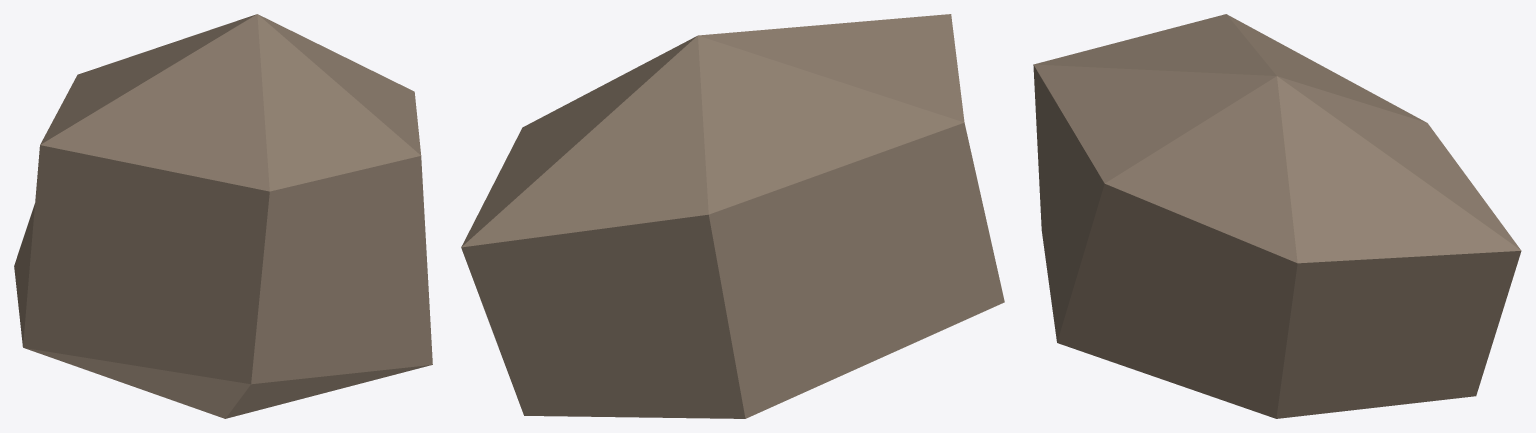
Rendered from roca_pequena.glb.
3 views of the same model, side by side, from view 1: azimuth 30°, elevation 25°; view 2: azimuth 150°, elevation 25°; view 3: azimuth 270°, elevation 25° (orthographic). The views are drawn at different scales.
Parts seen in each view (by area): view 1: Rock_20; view 2: Rock_20; view 3: Rock_20.
Boxes of the visible parts, bbox=[...] form: Rock_20: bbox=[14, 14, 432, 418]; Rock_20: bbox=[461, 14, 1004, 418]; Rock_20: bbox=[1033, 14, 1521, 418].
Bounding box in the file's own units: 0.8066 × 0.6486 × 0.8604.
